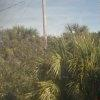Tree: (10, 22, 100, 94)
